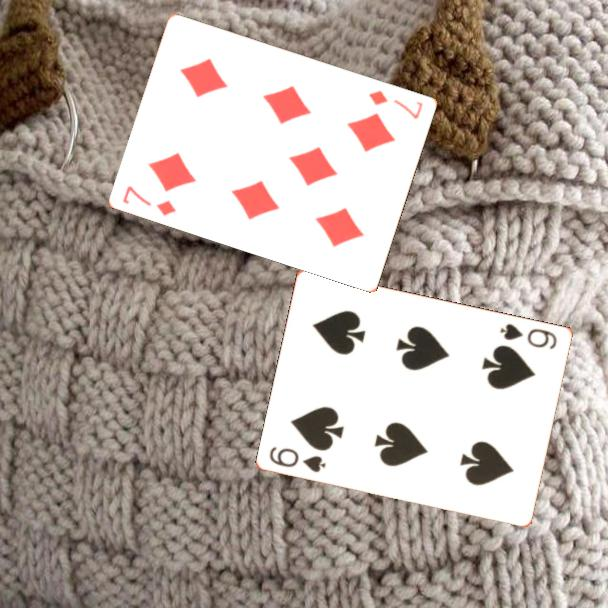d07: (119, 182, 180, 219), (365, 86, 426, 122)
s06: (497, 320, 560, 352), (266, 443, 329, 475)
